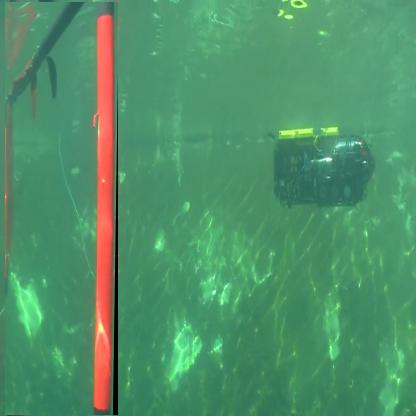gate: (6, 3, 121, 416)
